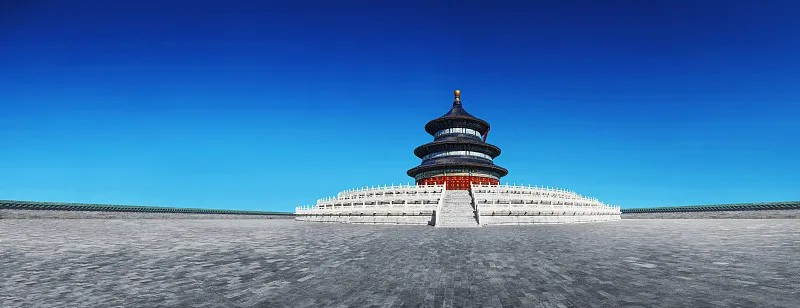Heaven: (406, 89, 510, 190)
